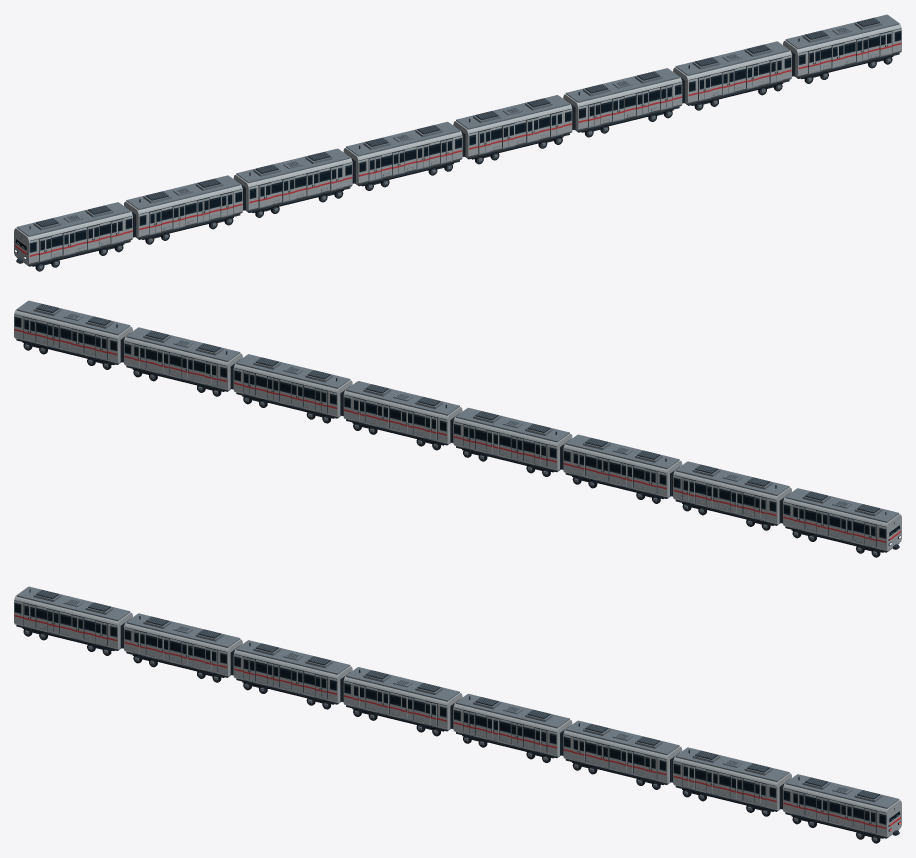
File: railwitness-reference-eight.glb
3 views of the same model, one above another, from view 1: azimuth 30°, elevation 25°; view 2: azimuth 150°, elevation 25°; view 3: azimuth 330°, elevation 25° (orthographic).
Visible parts, largest first — view 1: ReferenceCar01_aluminium, ReferenceCar02_aluminium, ReferenceCar07_aluminium, ReferenceCar05_aluminium, ReferenceCar03_aluminium, ReferenceCar06_aluminium, ReferenceCar08_aluminium, ReferenceCar04_aluminium, ReferenceCar01_roof, ReferenceCar03_roof, ReferenceCar06_roof, ReferenceCar05_roof (+21 smaller); view 2: ReferenceCar01_aluminium, ReferenceCar02_aluminium, ReferenceCar07_aluminium, ReferenceCar05_aluminium, ReferenceCar03_aluminium, ReferenceCar06_aluminium, ReferenceCar08_aluminium, ReferenceCar04_aluminium, ReferenceCar01_roof, ReferenceCar03_roof, ReferenceCar06_roof, ReferenceCar05_roof (+21 smaller); view 3: ReferenceCar08_aluminium, ReferenceCar07_aluminium, ReferenceCar02_aluminium, ReferenceCar04_aluminium, ReferenceCar06_aluminium, ReferenceCar01_aluminium, ReferenceCar03_aluminium, ReferenceCar05_aluminium, ReferenceCar08_roof, ReferenceCar06_roof, ReferenceCar03_roof, ReferenceCar04_roof (+21 smaller).
Boxes of the visible parts, bbox=[...] form: ReferenceCar01_aluminium: bbox=[14, 205, 132, 265]; ReferenceCar02_aluminium: bbox=[124, 180, 242, 238]; ReferenceCar07_aluminium: bbox=[673, 47, 791, 104]; ReferenceCar05_aluminium: bbox=[453, 96, 572, 157]; ReferenceCar03_aluminium: bbox=[233, 150, 352, 211]; ReferenceCar06_aluminium: bbox=[563, 71, 682, 131]; ReferenceCar08_aluminium: bbox=[783, 17, 901, 77]; ReferenceCar04_aluminium: bbox=[343, 124, 462, 184]; ReferenceCar01_roof: bbox=[16, 202, 130, 268]; ReferenceCar03_roof: bbox=[236, 148, 350, 215]; ReferenceCar06_roof: bbox=[565, 68, 680, 134]; ReferenceCar05_roof: bbox=[456, 95, 571, 161]; ReferenceCar01_aluminium: bbox=[783, 491, 901, 551]; ReferenceCar02_aluminium: bbox=[673, 466, 791, 524]; ReferenceCar07_aluminium: bbox=[124, 333, 242, 390]; ReferenceCar05_aluminium: bbox=[343, 382, 462, 443]; ReferenceCar03_aluminium: bbox=[563, 436, 682, 497]; ReferenceCar06_aluminium: bbox=[233, 357, 352, 417]; ReferenceCar08_aluminium: bbox=[14, 303, 132, 363]; ReferenceCar04_aluminium: bbox=[453, 410, 572, 470]; ReferenceCar01_roof: bbox=[785, 488, 899, 554]; ReferenceCar03_roof: bbox=[565, 434, 679, 501]; ReferenceCar06_roof: bbox=[235, 354, 350, 420]; ReferenceCar05_roof: bbox=[344, 381, 459, 447]; ReferenceCar08_aluminium: bbox=[783, 777, 901, 837]; ReferenceCar07_aluminium: bbox=[673, 752, 791, 810]; ReferenceCar02_aluminium: bbox=[124, 619, 242, 676]; ReferenceCar04_aluminium: bbox=[343, 668, 462, 729]; ReferenceCar06_aluminium: bbox=[563, 722, 682, 783]; ReferenceCar01_aluminium: bbox=[14, 589, 132, 649]; ReferenceCar03_aluminium: bbox=[233, 643, 352, 703]; ReferenceCar05_aluminium: bbox=[453, 696, 572, 756]; ReferenceCar08_roof: bbox=[785, 774, 899, 840]; ReferenceCar06_roof: bbox=[565, 720, 679, 787]; ReferenceCar03_roof: bbox=[235, 640, 350, 706]; ReferenceCar04_roof: bbox=[344, 667, 459, 733].
Bounding box in the file's own units: 76.22 × 3.42 × 2.46.
